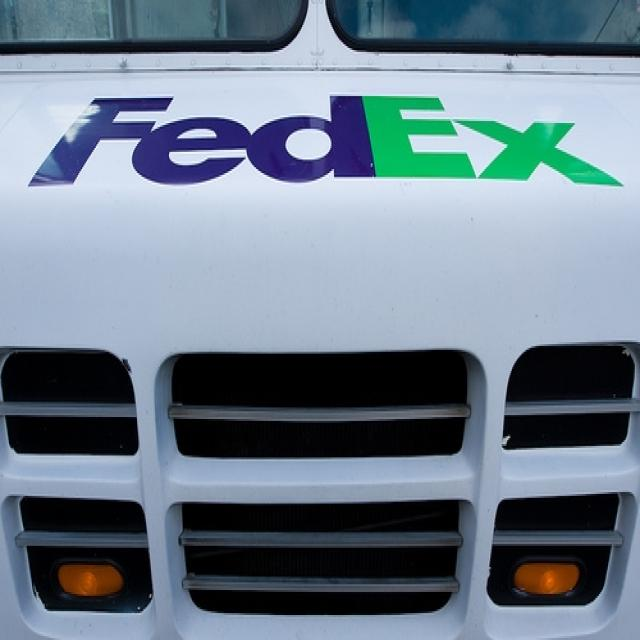fedex: (21, 86, 636, 203)
